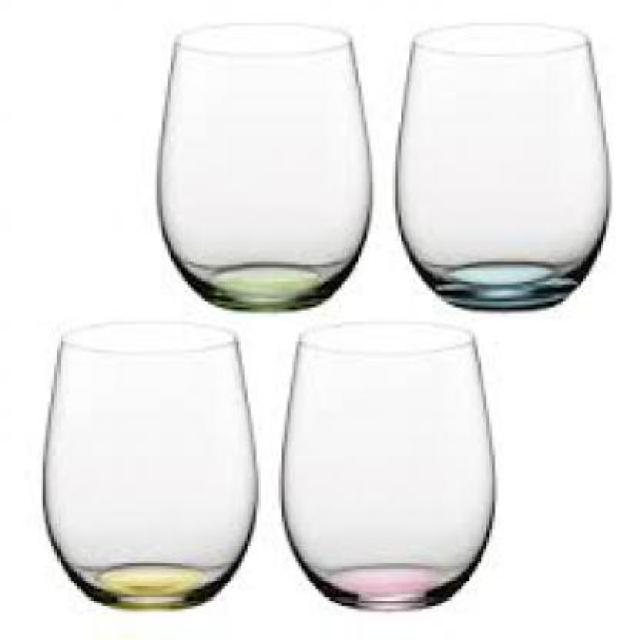kaca: (391, 23, 612, 309), (278, 322, 492, 610), (157, 20, 369, 308), (40, 328, 255, 609)
